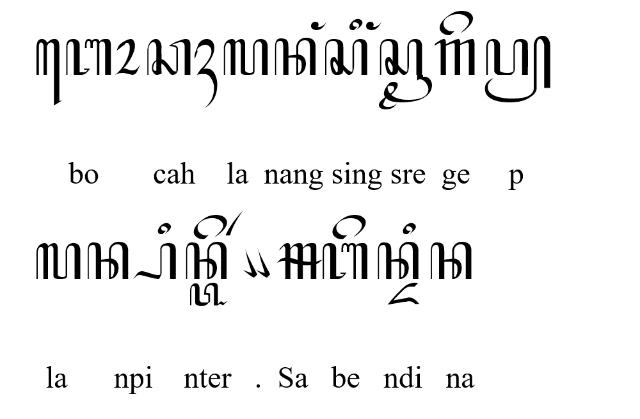-p: (484, 35, 552, 103)
S: (277, 243, 323, 279)
_d: (388, 282, 420, 306)
_h1: (194, 38, 218, 110)
_p: (133, 242, 177, 280)
_r1: (224, 210, 243, 236)
_t: (190, 282, 228, 306)
b: (66, 38, 112, 76), (322, 243, 368, 280)
c: (147, 38, 191, 76)
e: (438, 10, 474, 36), (193, 214, 227, 240), (332, 214, 366, 240)
e1: (36, 38, 62, 106)
g: (434, 39, 476, 76)
i: (157, 222, 170, 236), (349, 18, 363, 30), (404, 223, 416, 235)
kom: (255, 248, 271, 279), (242, 248, 258, 278)
l: (224, 38, 268, 76), (36, 243, 80, 280)
n: (376, 242, 419, 280), (274, 37, 316, 75), (87, 242, 129, 280), (185, 242, 227, 280), (430, 242, 472, 280)
ng: (311, 21, 327, 31), (366, 22, 382, 30)
o: (116, 38, 140, 74)
s: (324, 38, 368, 76)
sre: (378, 38, 432, 110)
